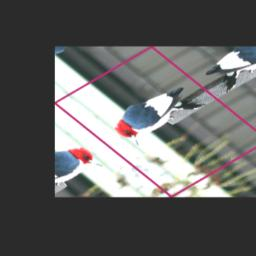Woodpecker: (100, 78, 209, 149)
